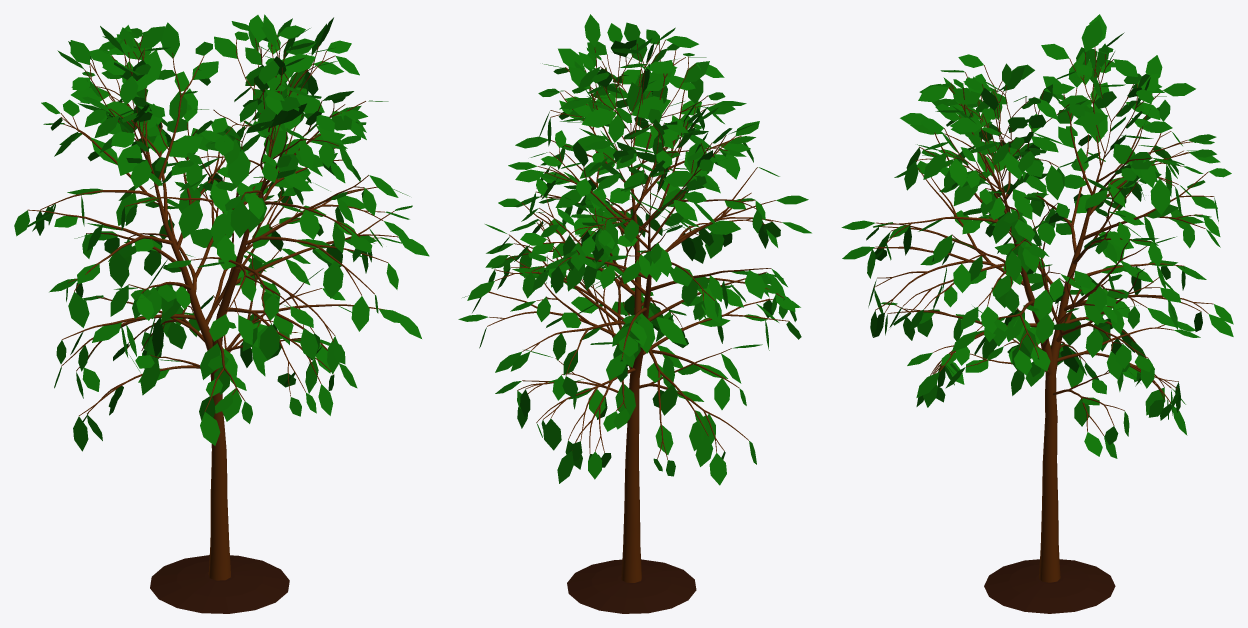
The model's file is Stage4.glb.
3 renders of one model, left to right at view 1: azimuth 30°, elevation 25°; view 2: azimuth 150°, elevation 25°; view 3: azimuth 270°, elevation 25°, orthographic. The views are drawn at different scales.
Visible parts, largest first — view 1: leaves.005, stage3.001, Cone; view 2: leaves.005, stage3.001, Cone; view 3: leaves.005, stage3.001, Cone.
Boxes of the visible parts, left/top/right/bottom form: leaves.005: left=14, top=14, right=429, bottom=451; stage3.001: left=28, top=35, right=397, bottom=580; Cone: left=150, top=555, right=289, bottom=613; leaves.005: left=458, top=14, right=811, bottom=485; stage3.001: left=487, top=40, right=789, bottom=582; Cone: left=567, top=559, right=696, bottom=613; leaves.005: left=841, top=14, right=1233, bottom=458; stage3.001: left=873, top=47, right=1214, bottom=582; Cone: left=984, top=559, right=1115, bottom=613.
Size of the model in its own units: 1.5 by 2.32 by 1.53.
